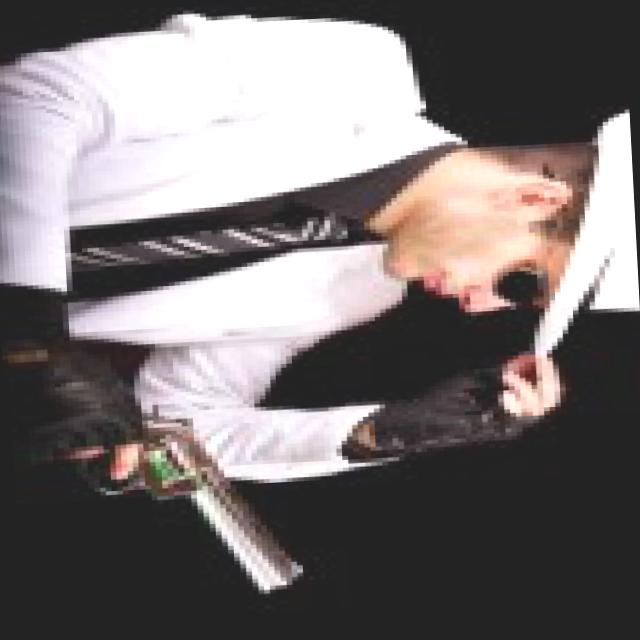handgun: (48, 366, 320, 604)
